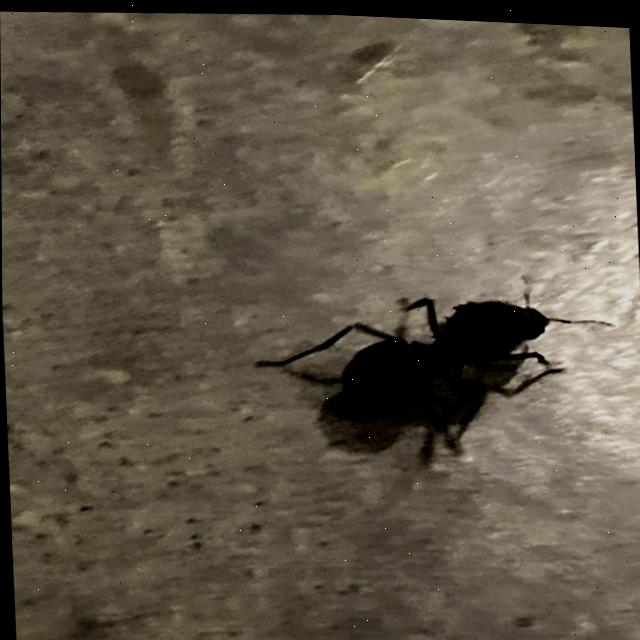Alive-Female-Dealate: (248, 257, 620, 433)
